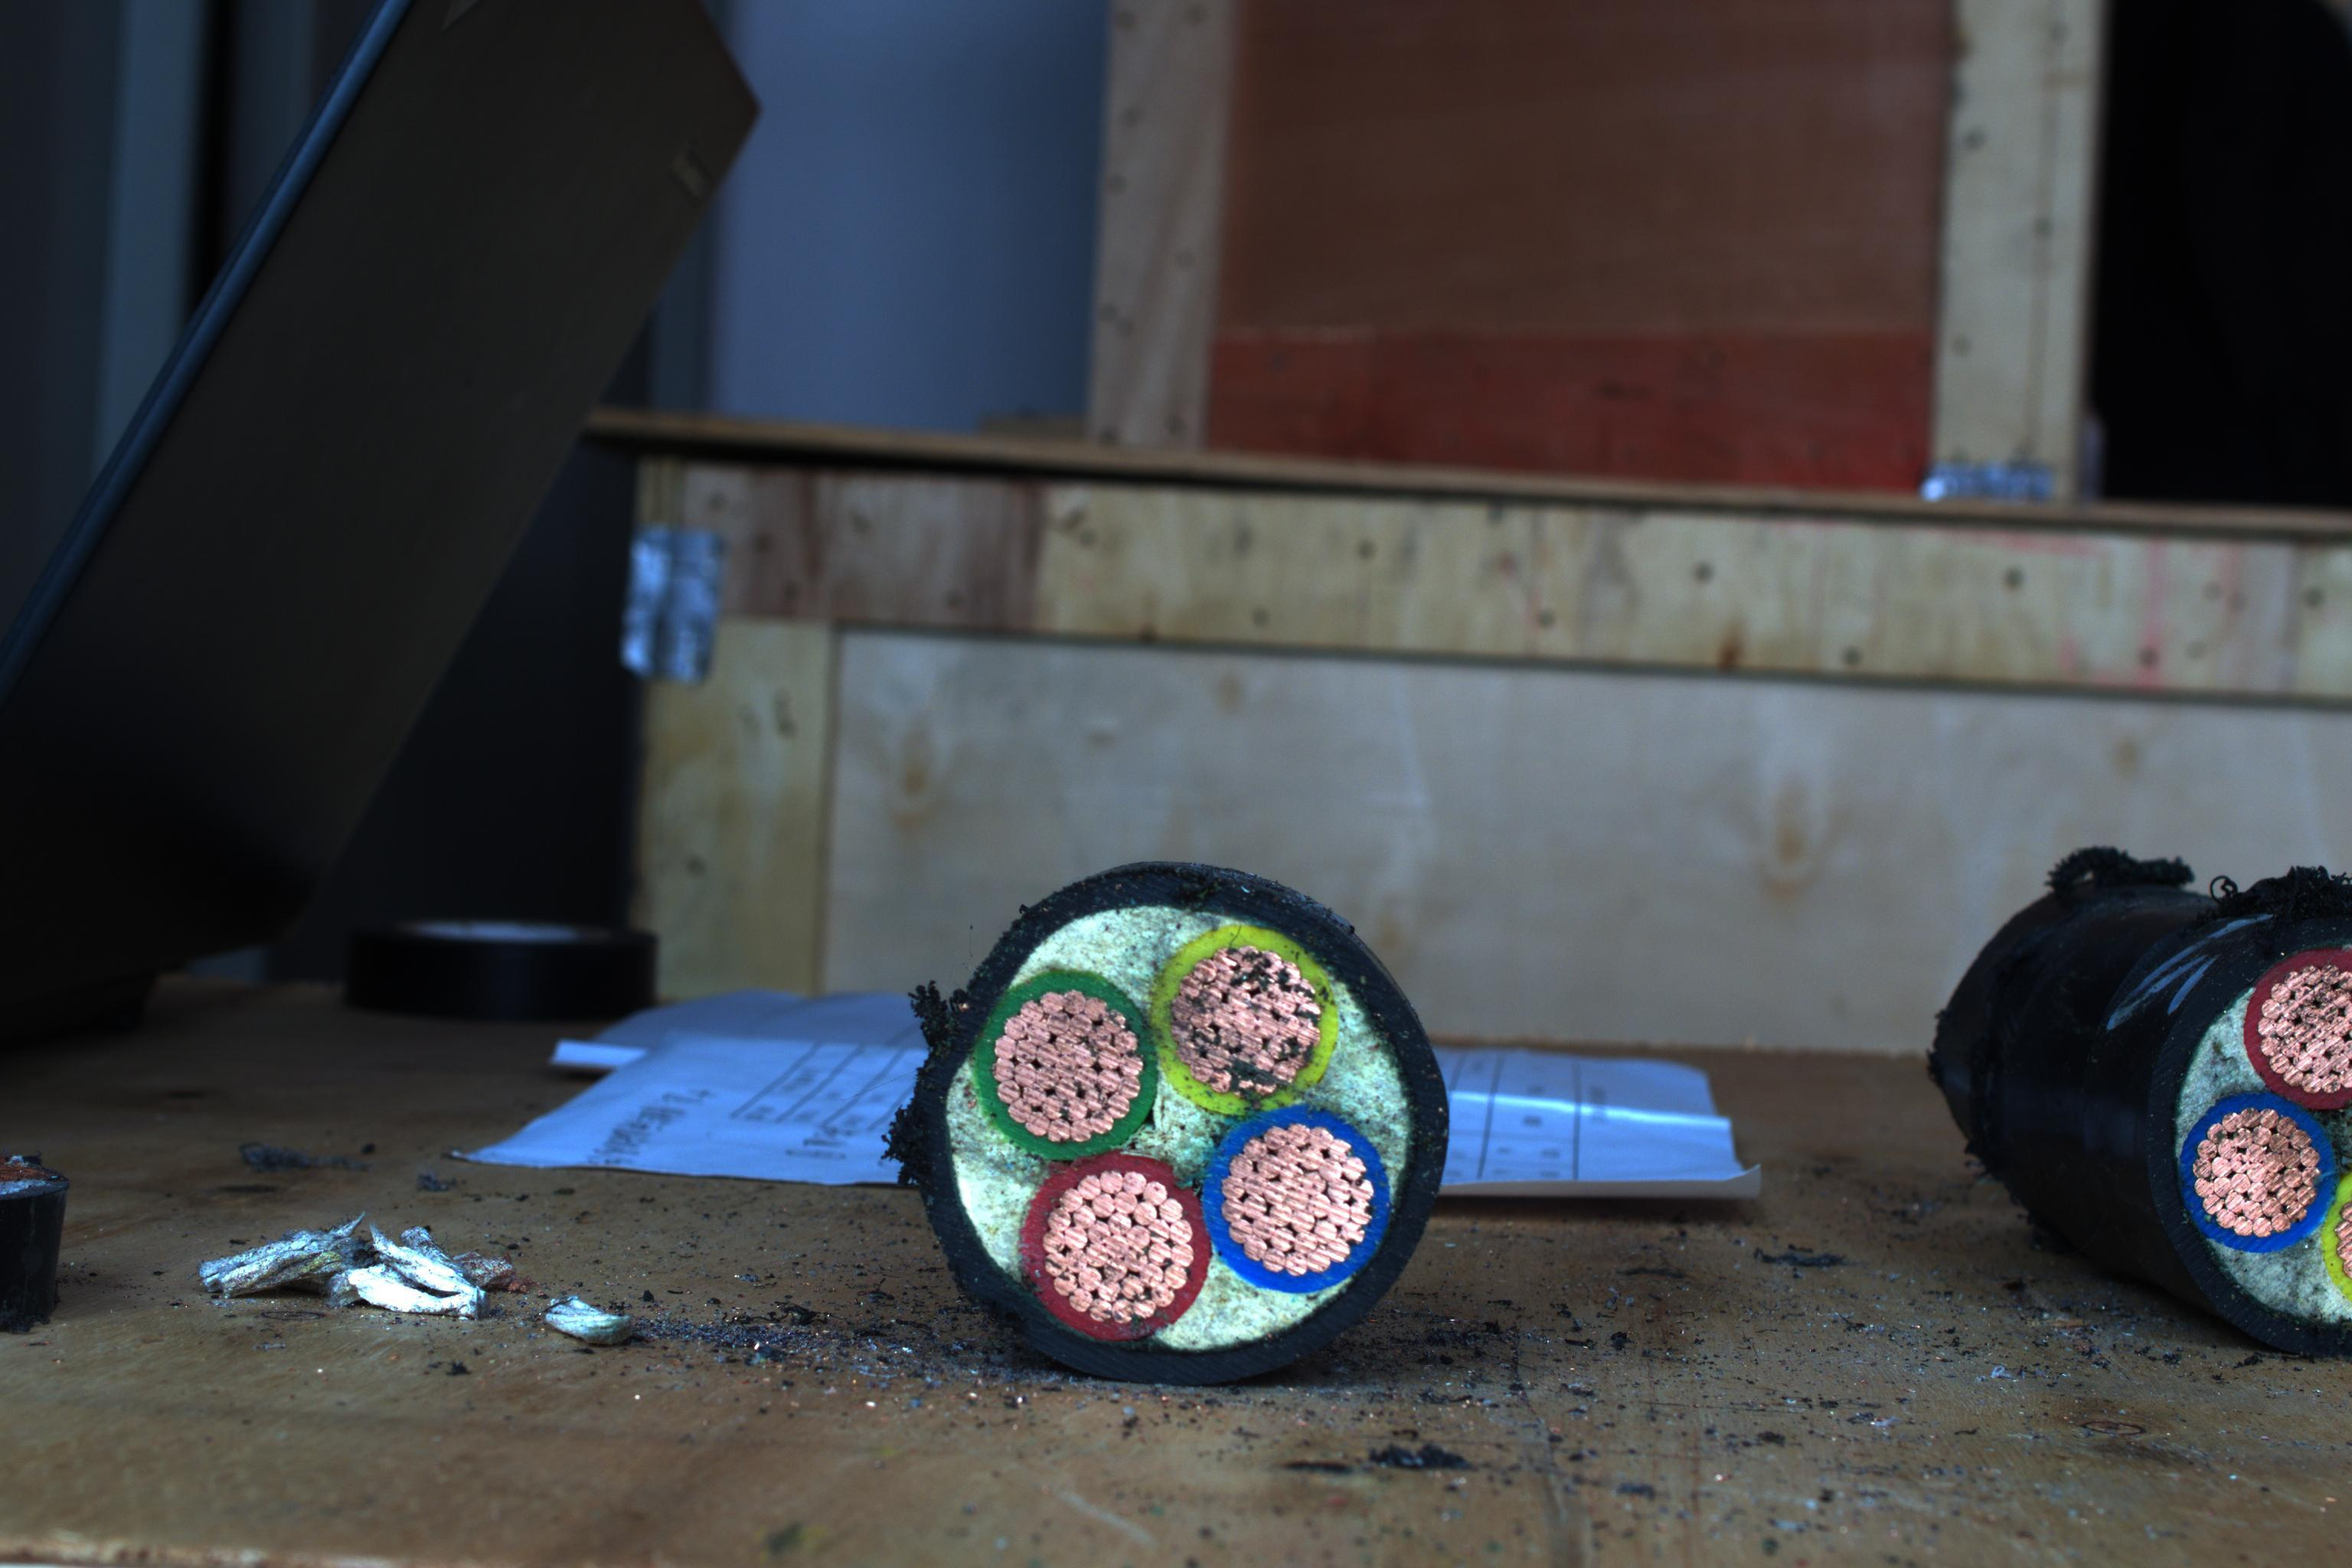YJV_0.6_1kV_4x185: (898, 873, 1463, 1367)
